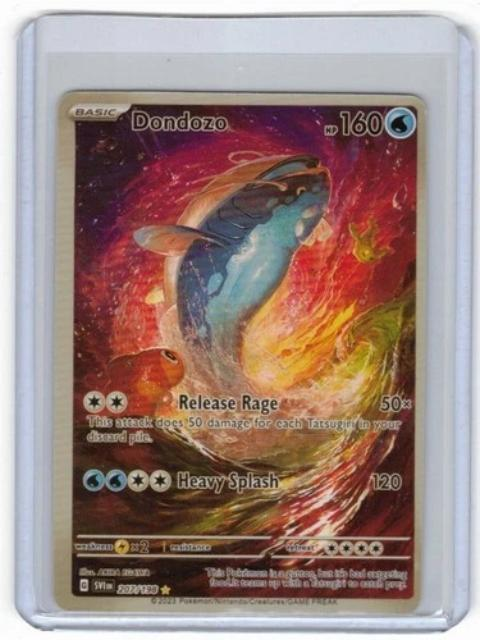Card: (47, 90, 431, 615)
Name: (128, 105, 228, 134)
